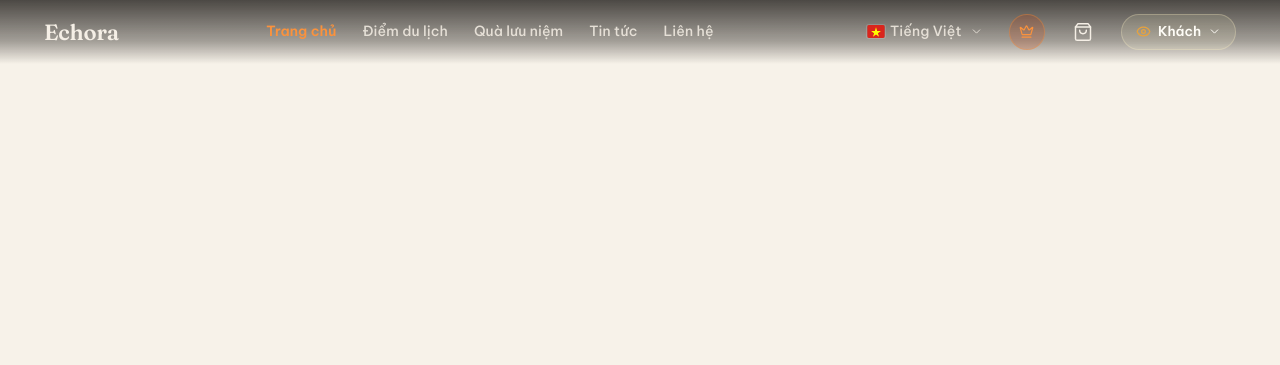
Test: Header Navigation Redesign › Menu chế độ Khách › đã chọn chế độ Khách: GuestMenu thay thế hoàn toàn cụm Đăng nhập/Đăng ký ở thanh điều hướng
Expected: the button "Đăng nhập" is not shown
Expected: the button "Đăng ký" is not shown
Note: Bấm vào GuestMenu sẽ mở dropdown chứa Đăng nhập, Đăng ký và Thoát chế độ Khách
Step 1. Click the button with test id "header-guest-menu" → coordinates (1178, 32), box [1121,14,1236,50]
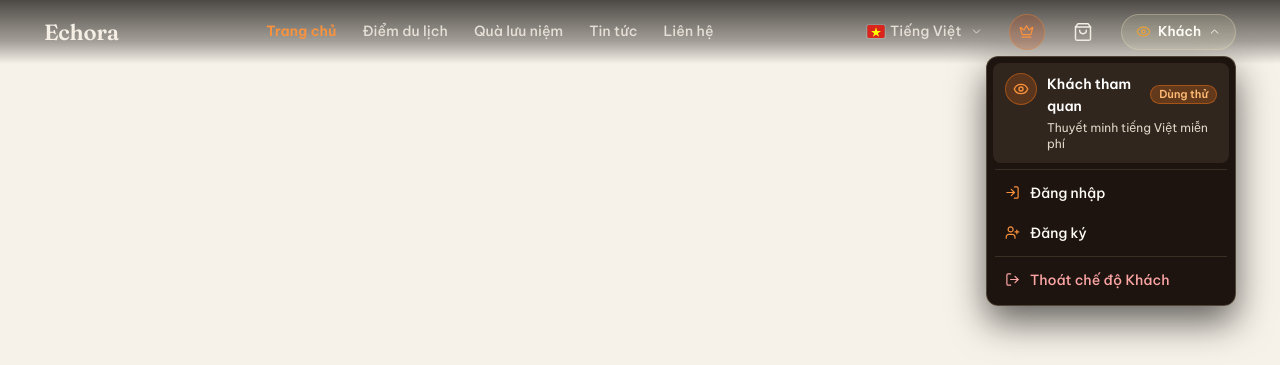
Now the menu item "Đăng nhập" is shown, box [993,174,1229,212]
Now the menu item "Đăng ký" is shown, box [993,214,1229,252]
Now the menu item "Thoát chế độ Khách" is shown, box [993,261,1229,299]
